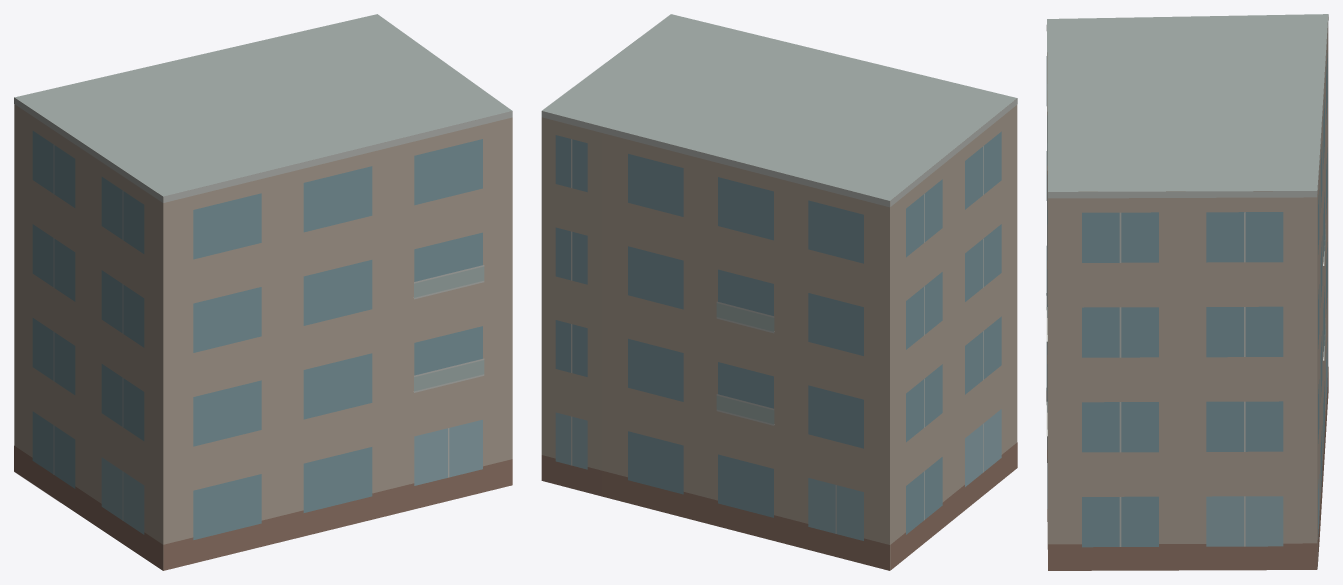
Rendered from survey-upis-32930927.glb.
The picture shows the model from 3 angles, left to right: view 1: azimuth 30°, elevation 25°; view 2: azimuth 150°, elevation 25°; view 3: azimuth 270°, elevation 25°; orthographic projection. The views are drawn at different scales.
Parts seen in each view (by area): view 1: survey-upis-32930927.tmp; view 2: survey-upis-32930927.tmp; view 3: survey-upis-32930927.tmp.
Boxes of the visible parts, bbox=[...] form: survey-upis-32930927.tmp: bbox=[14, 14, 512, 570]; survey-upis-32930927.tmp: bbox=[541, 14, 1017, 570]; survey-upis-32930927.tmp: bbox=[1046, 14, 1328, 570].
Size of the model in its own units: 14.2 by 14.1 by 9.51.
